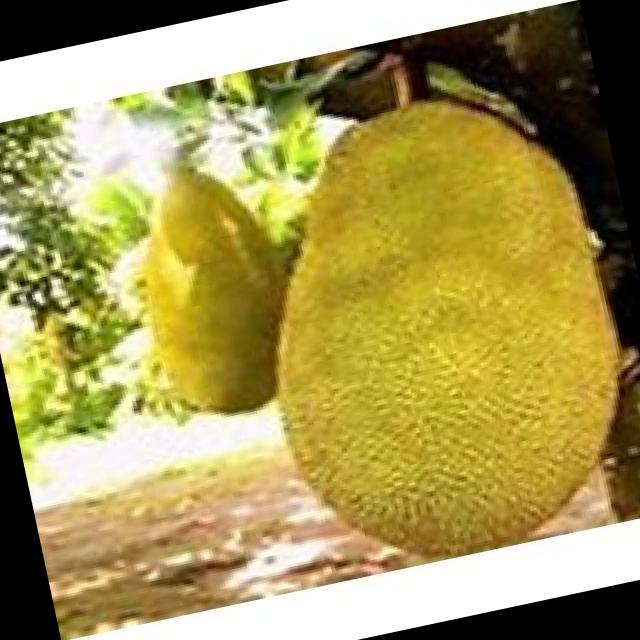Fruit: (195, 104, 640, 588), (0, 128, 356, 498)
